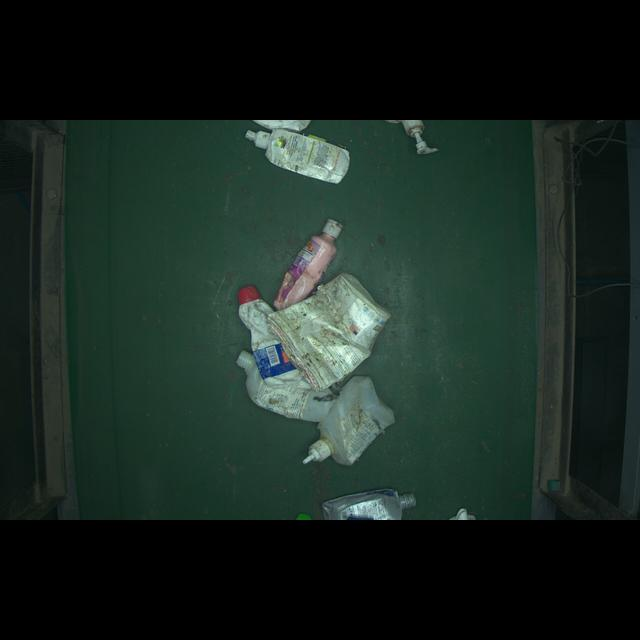mix PET: (268, 281, 406, 381), (303, 377, 406, 480), (237, 355, 338, 430), (228, 281, 299, 384), (239, 125, 357, 182), (273, 212, 336, 309), (314, 484, 420, 529)
